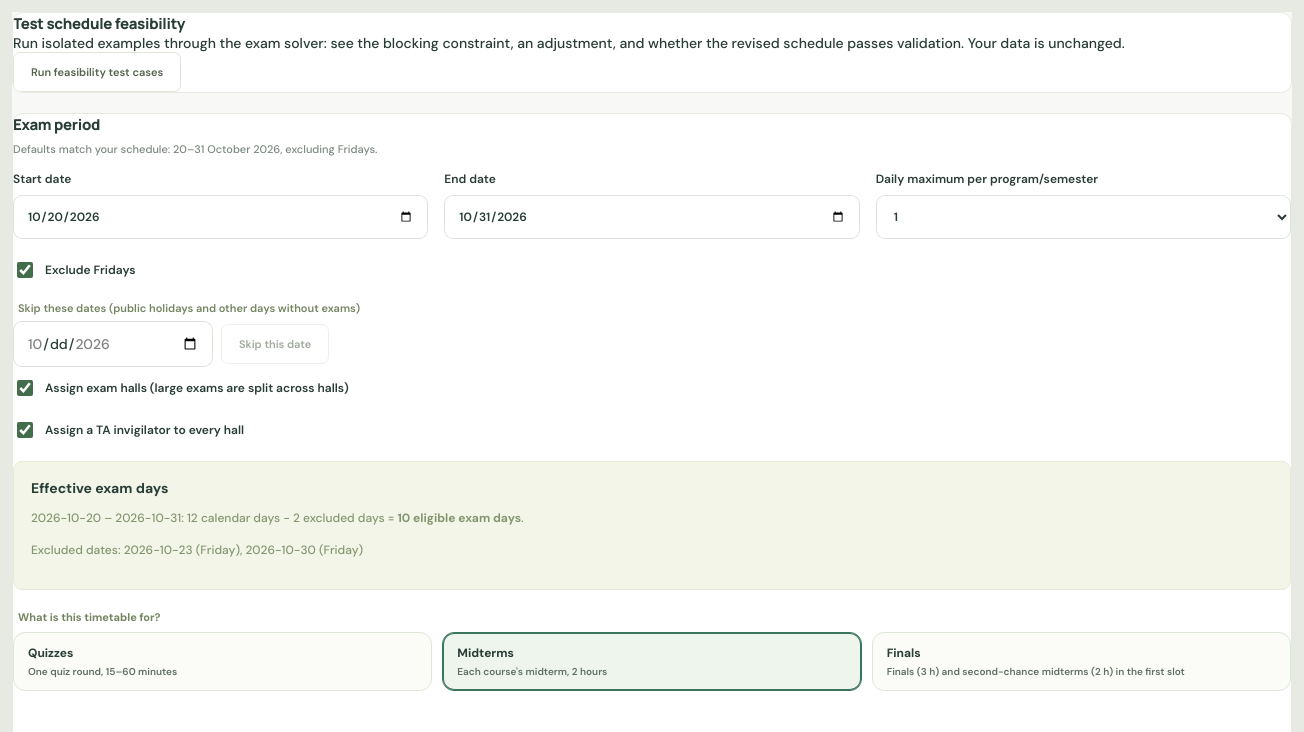
Test: nine calendar days show seven eligible days when Fridays are excluded
The width and height of the screenshot is (1304, 732).
Type "2026-10-23" into the date field labelled "Start date" at (221, 217), box [13,195,428,239]
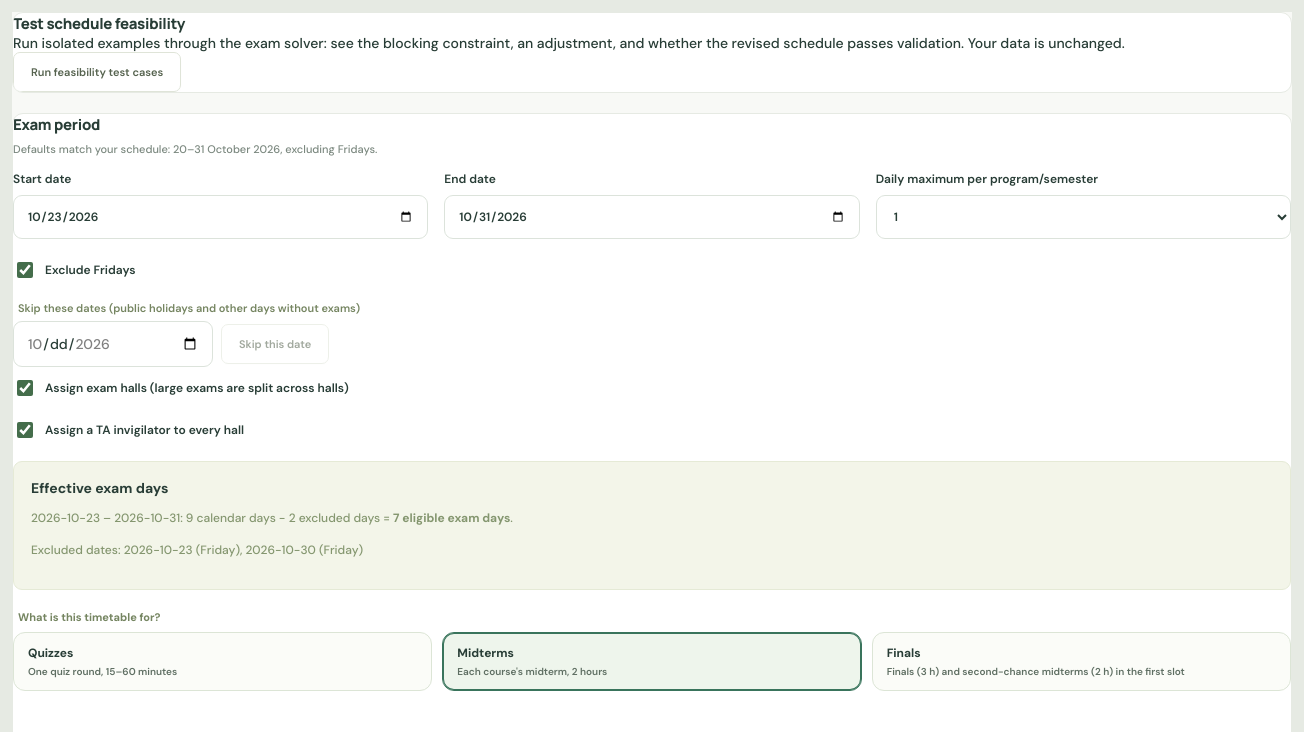
expect the element with class "exam-date-breakdown" shows "2026-10-23 (Friday), 2026-10-30 (Friday)": met, box [124,542,363,558]
expect the element with class "exam-date-breakdown" shows "9 calendar days − 2 excluded days = 7 eligible exam days": met, box [13,461,1291,590]
Click the checkbox labelled "Exclude Fridays" at (25, 270), box [17,262,33,278]
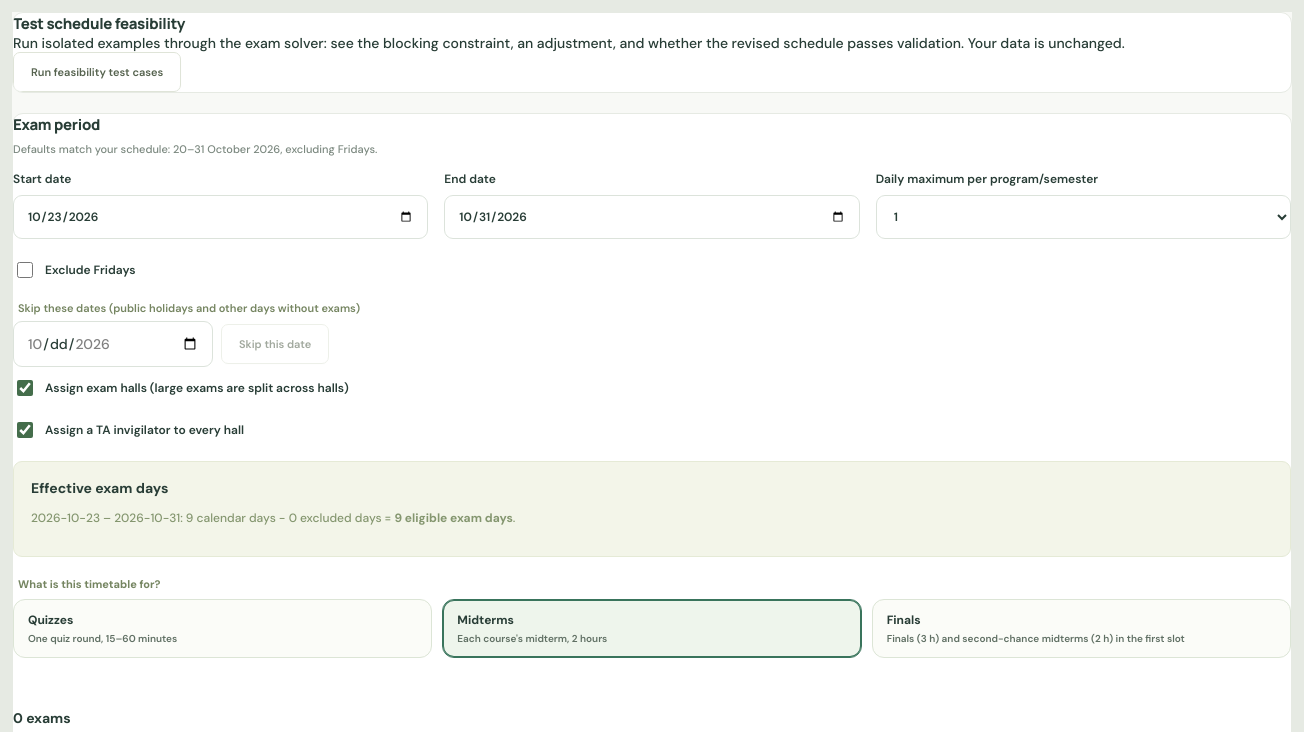
expect the element with class "exam-date-breakdown" shows "9 calendar days − 0 excluded days = 9 eligible exam days": met, box [13,461,1291,557]
